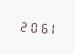one: (45, 20, 53, 35)
six: (36, 19, 44, 34)
two: (18, 18, 26, 33)
zero: (27, 19, 35, 33)
